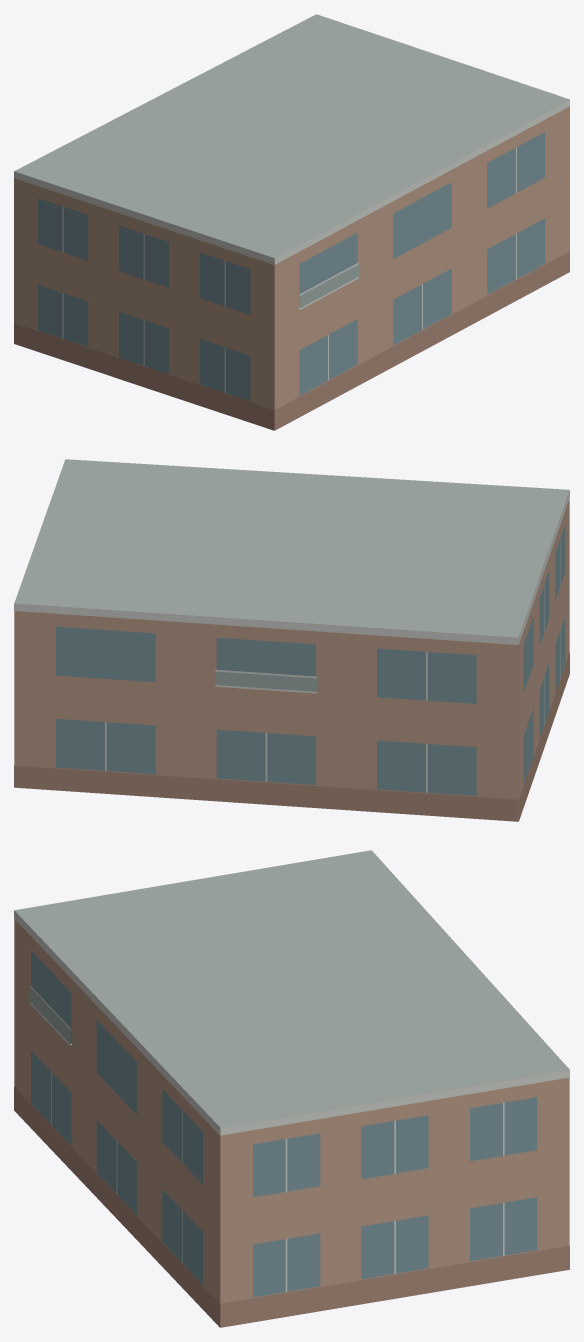
The model's file is survey-upis-32887238.glb.
The picture shows the model from 3 angles, top to bottom: view 1: azimuth 30°, elevation 25°; view 2: azimuth 150°, elevation 25°; view 3: azimuth 270°, elevation 25°; orthographic projection. The views are drawn at different scales.
Parts seen in each view (by area): view 1: survey-upis-32887238.tmp; view 2: survey-upis-32887238.tmp; view 3: survey-upis-32887238.tmp.
Boxes of the visible parts, x1,y1,x2,y2 form: survey-upis-32887238.tmp: (14, 14, 569, 430); survey-upis-32887238.tmp: (14, 459, 569, 821); survey-upis-32887238.tmp: (14, 850, 569, 1327).
Size of the model in its own units: 18.15 by 6.1 by 15.36.
